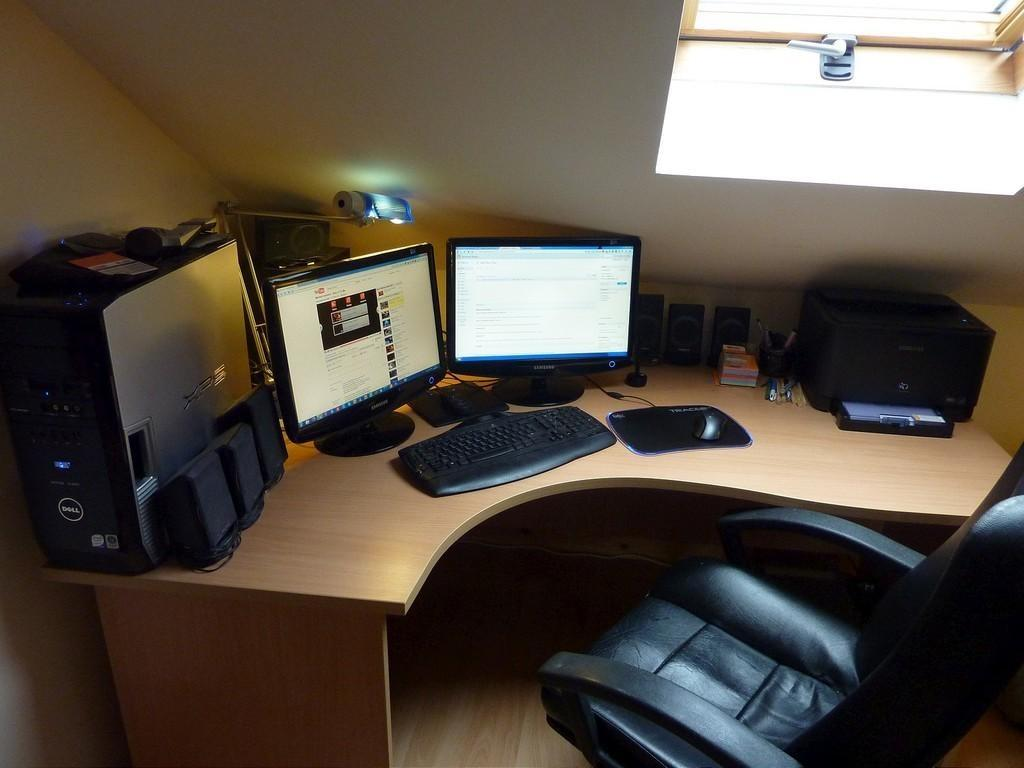AIO PC-Monitor-TV: (263, 242, 446, 457), (443, 235, 641, 408)
Kursi: (532, 436, 1023, 766)
Meja: (45, 358, 1022, 628)
Printer: (797, 286, 995, 438)
